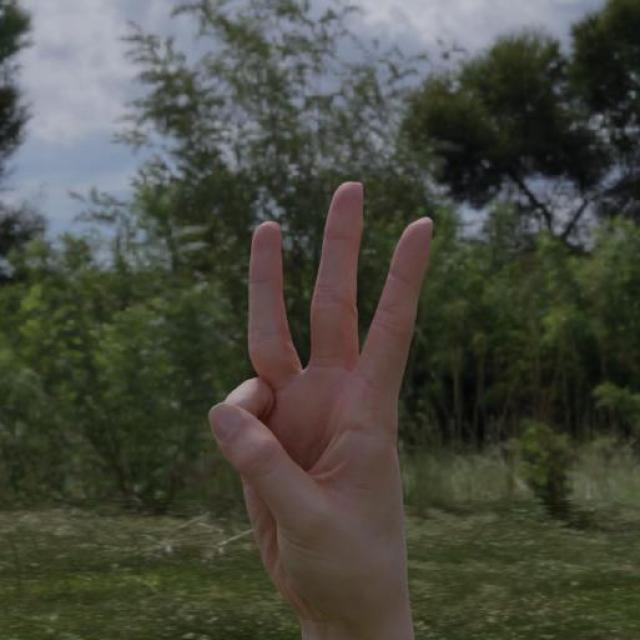W: (182, 165, 478, 626)
